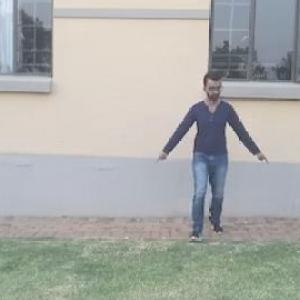land: (151, 70, 271, 251)
